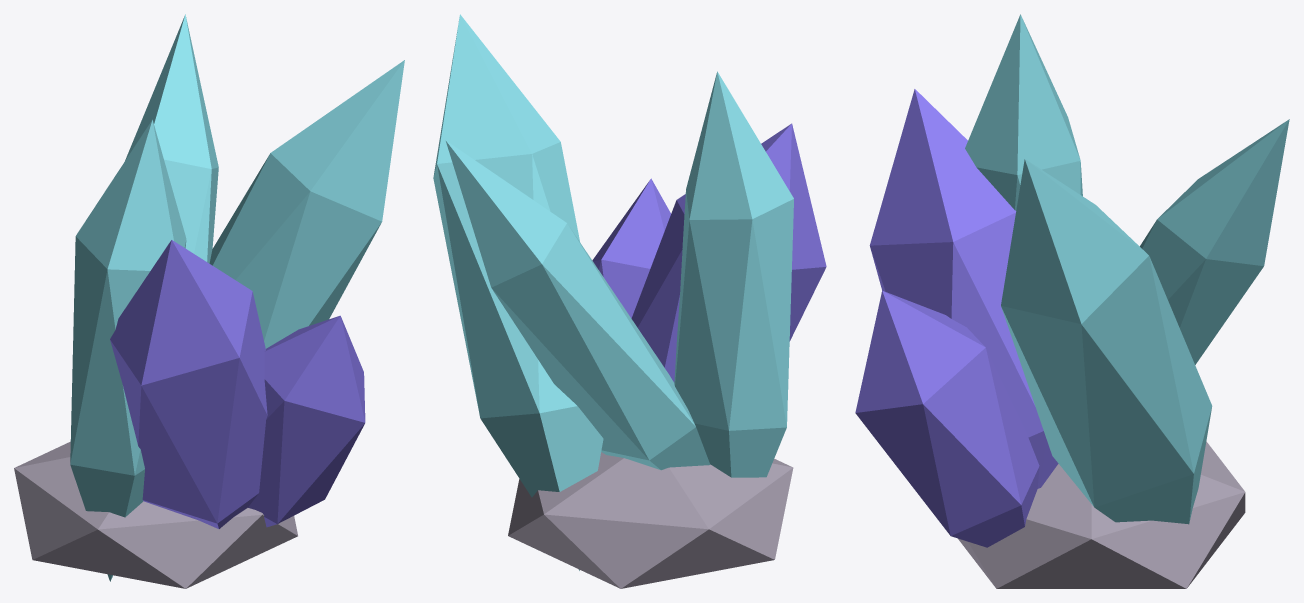
Rendered from crystal_cluster.glb.
The picture shows the model from 3 angles, left to right: view 1: azimuth 30°, elevation 25°; view 2: azimuth 150°, elevation 25°; view 3: azimuth 270°, elevation 25°; orthographic projection. The views are drawn at different scales.
Visible parts, largest first — view 1: crystal_cluster; view 2: crystal_cluster; view 3: crystal_cluster.
Boxes of the visible parts, <box> form: crystal_cluster: <box>14,14,404,588</box>; crystal_cluster: <box>433,14,826,588</box>; crystal_cluster: <box>855,14,1289,588</box>.
Bounding box in the file's own units: 0.8716 × 1.15 × 0.8405.
